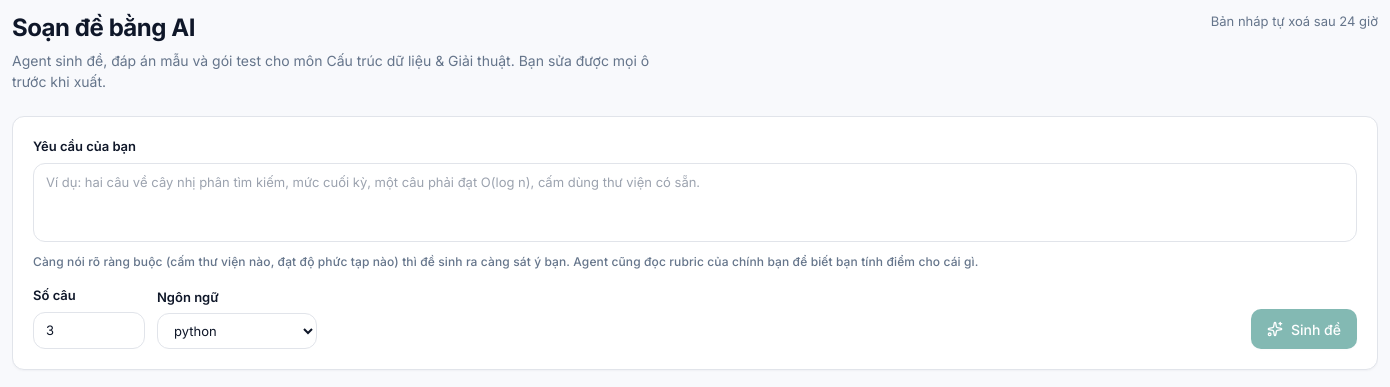
ExamAuthoringPage › nút Sinh đề bị khoá khi prompt quá ngắn
The image size is (1390, 387).
Expected: the button "Sinh đề" is disabled, 1251,309 -> 1357,349
Replace the text in the text box labelled "Yêu cầu của bạn" with "hai câu về cây nhị phân tìm kiếm" at (695, 202), box 33,162 -> 1357,242
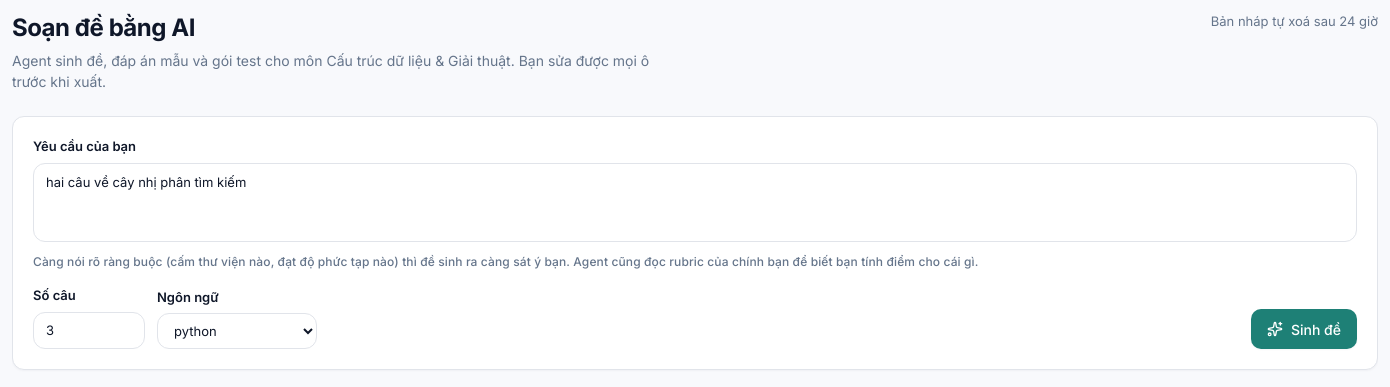
Now the button "Sinh đề" is enabled, box 1251,309 -> 1357,349
